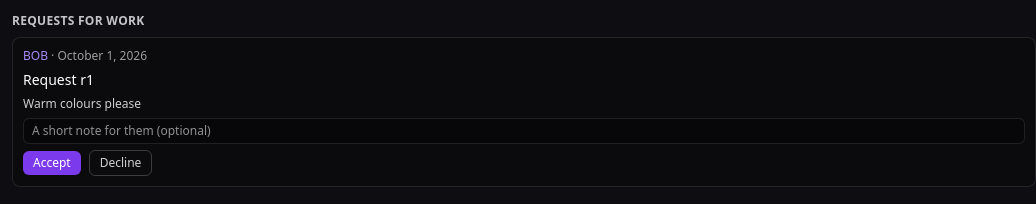
WorkRequestsPanel › accepts with a note for the asker, and then shows the answer
Type "  Happy to " into the field named "Your note to them" at (524, 131), box x1=23 y1=118 x2=1025 y2=144
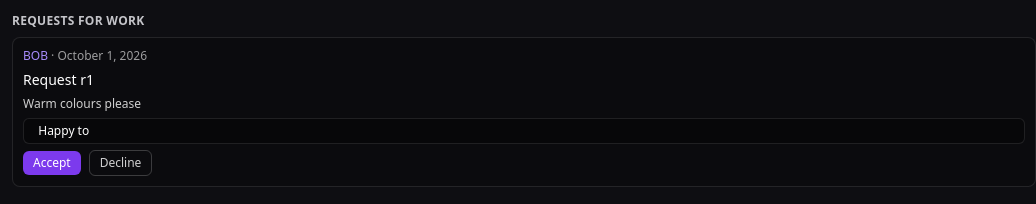
Click the button "Accept" at (52, 163), box x1=23 y1=151 x2=81 y2=175
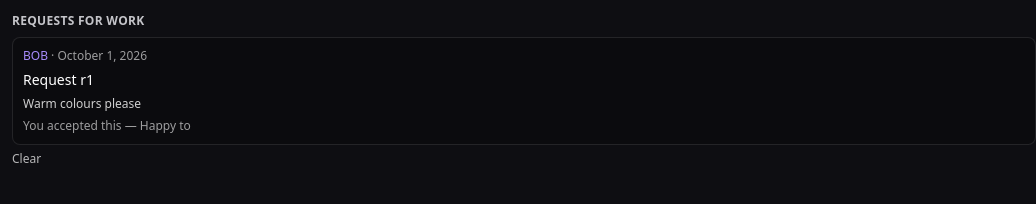
Check: the text "You accepted this — Happy to" is shown, box x1=23 y1=117 x2=191 y2=134
